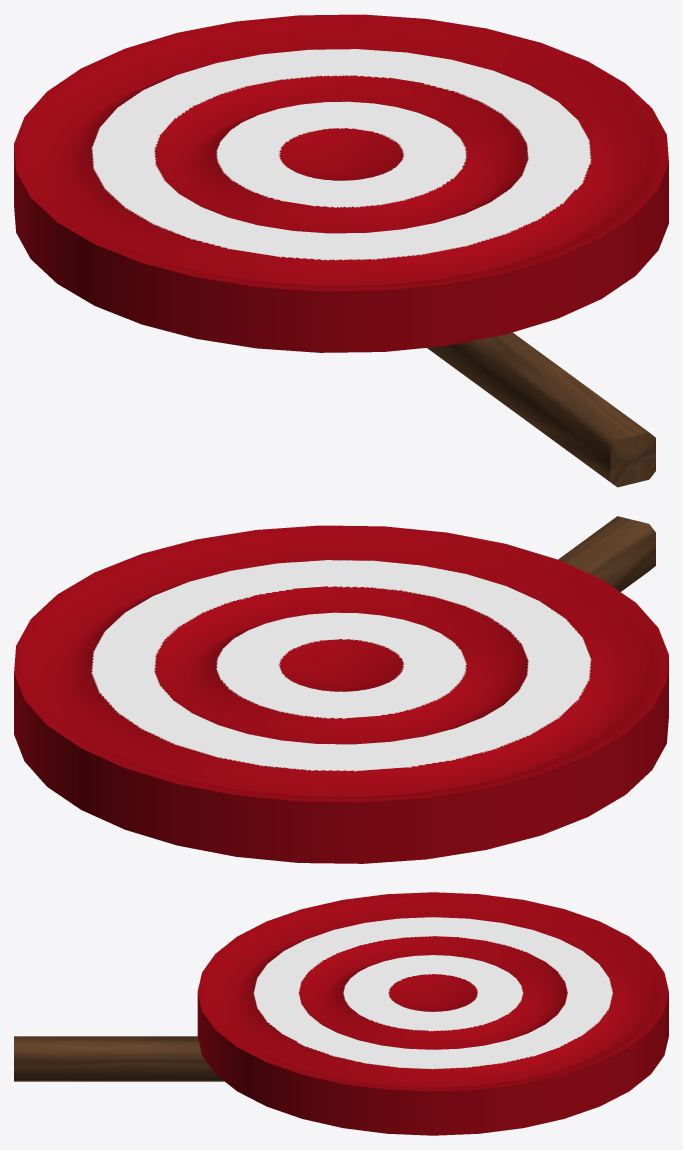
File: target.baked.dae
3 views of the same model, one above another, from view 1: azimuth 30°, elevation 25°; view 2: azimuth 150°, elevation 25°; view 3: azimuth 270°, elevation 25° (orthographic). The views are drawn at different scales.
Parts seen in each view (by area): view 1: Circle; view 2: Circle; view 3: Circle.
Part boxes in pixels (x1,y1,x2,y2): Circle: (14,14,668,487); Circle: (14,516,668,863); Circle: (14,892,668,1135).
Size of the model in its own units: 2.1 by 2.92 by 0.4137.
Materials: 1 (1 with a texture image).
